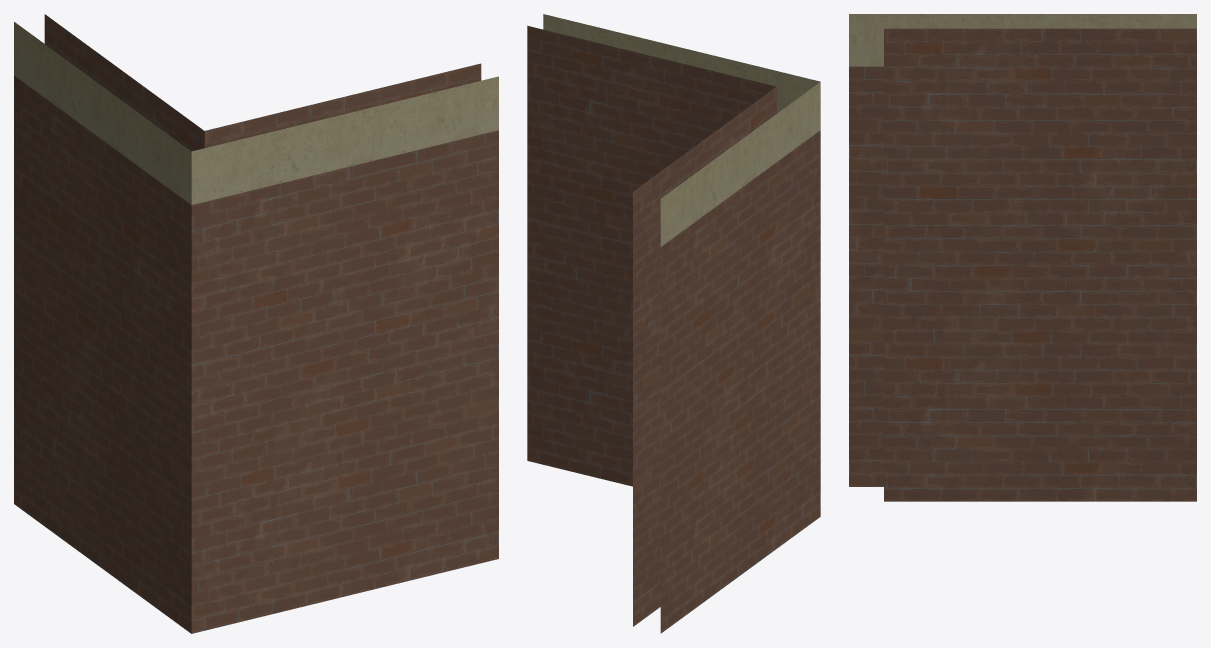
The model's file is Brick_TopTrim_Corner.gltf.
The picture shows the model from 3 angles, left to right: view 1: azimuth 30°, elevation 25°; view 2: azimuth 150°, elevation 25°; view 3: azimuth 270°, elevation 25°; orthographic projection. The views are drawn at different scales.
Visible parts, largest first — view 1: Brick_TopTrim_Corner; view 2: Brick_TopTrim_Corner; view 3: Brick_TopTrim_Corner.
Boxes of the visible parts, x1,y1,x2,y2 form: Brick_TopTrim_Corner: (14,14,498,633); Brick_TopTrim_Corner: (527,14,820,633); Brick_TopTrim_Corner: (849,14,1196,501).
Size of the model in its own units: 2 by 3 by 2.
3 materials, 3 textured.
